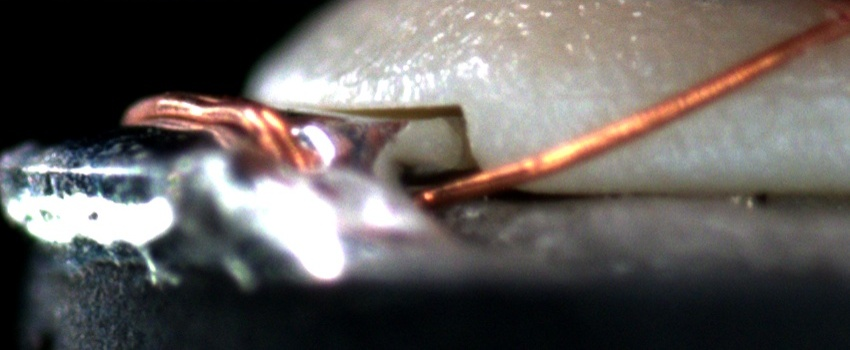DL: (506, 67, 850, 131)
TE: (117, 86, 314, 172)
